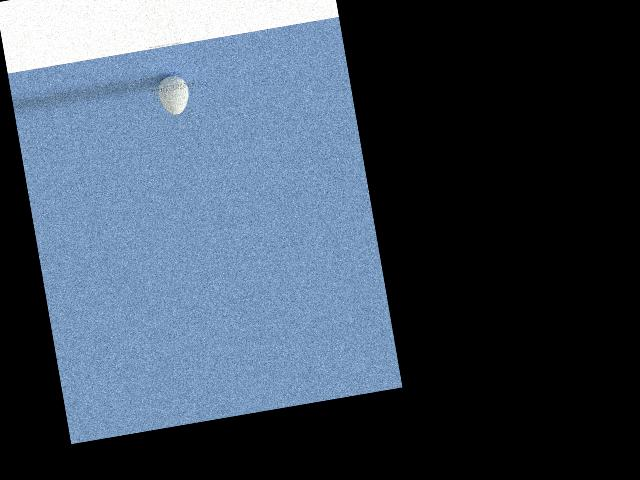egg: (155, 73, 192, 116)
